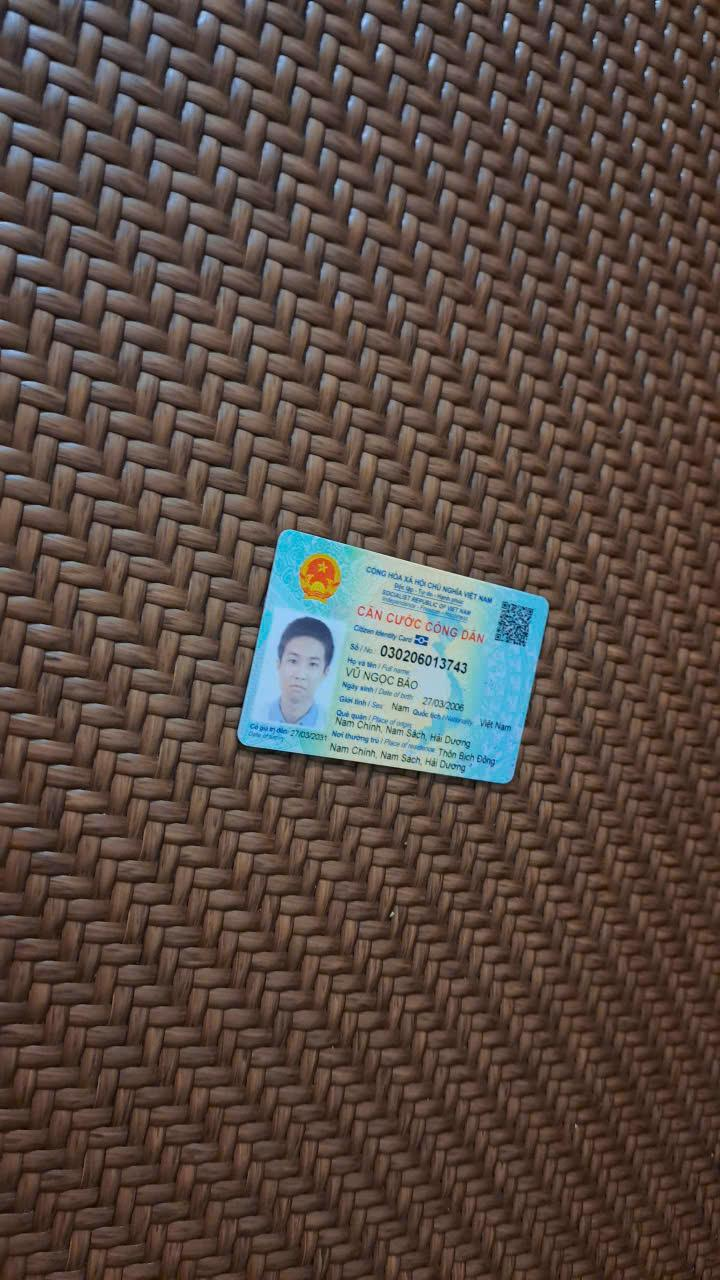cccd: (228, 523, 560, 798)
